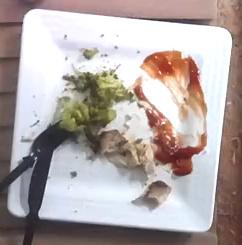broccoli: (58, 68, 131, 130)
